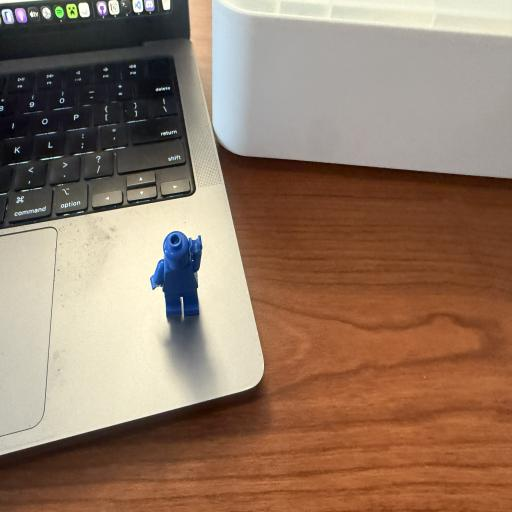Minifig: (150, 231, 202, 315)
